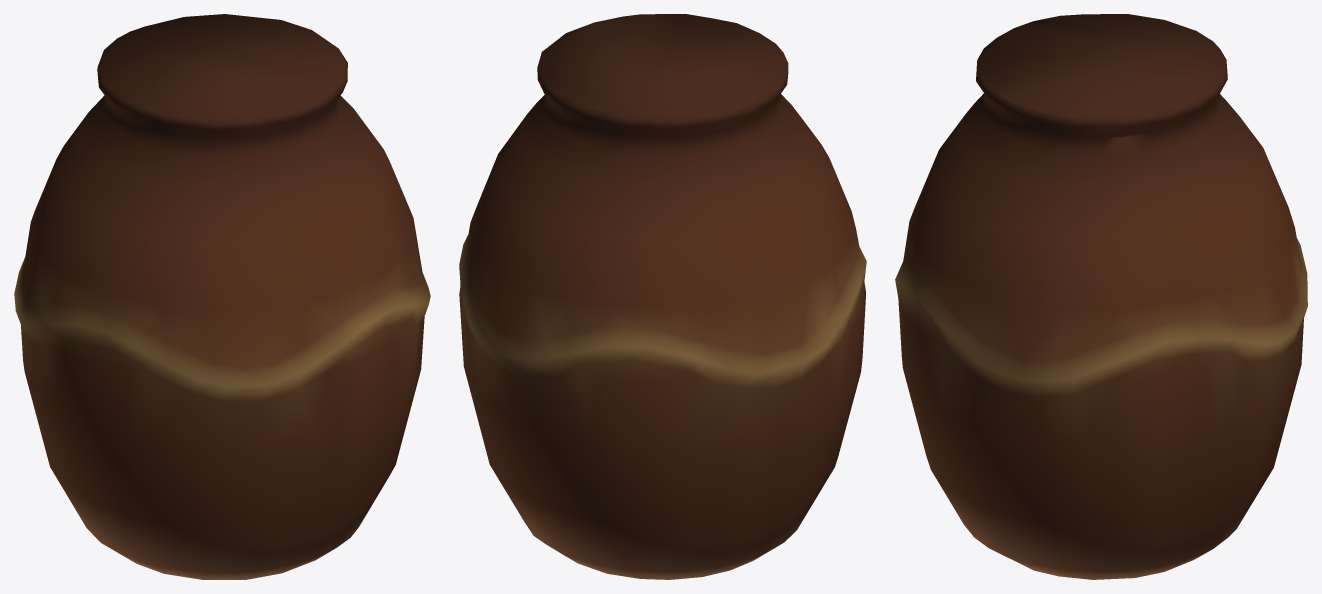
Rendered from lu_nuoc.glb.
3 views of the same model, side by side, from view 1: azimuth 30°, elevation 25°; view 2: azimuth 150°, elevation 25°; view 3: azimuth 270°, elevation 25° (orthographic).
Visible parts, largest first — view 1: lu_nuoc; view 2: lu_nuoc; view 3: lu_nuoc.
Part boxes in pixels (x1,y1,x2,y2): lu_nuoc: (14, 14, 430, 579); lu_nuoc: (459, 14, 866, 579); lu_nuoc: (895, 14, 1307, 579).
Bounding box in the file's own units: 0.6779 × 0.846 × 0.6774.
